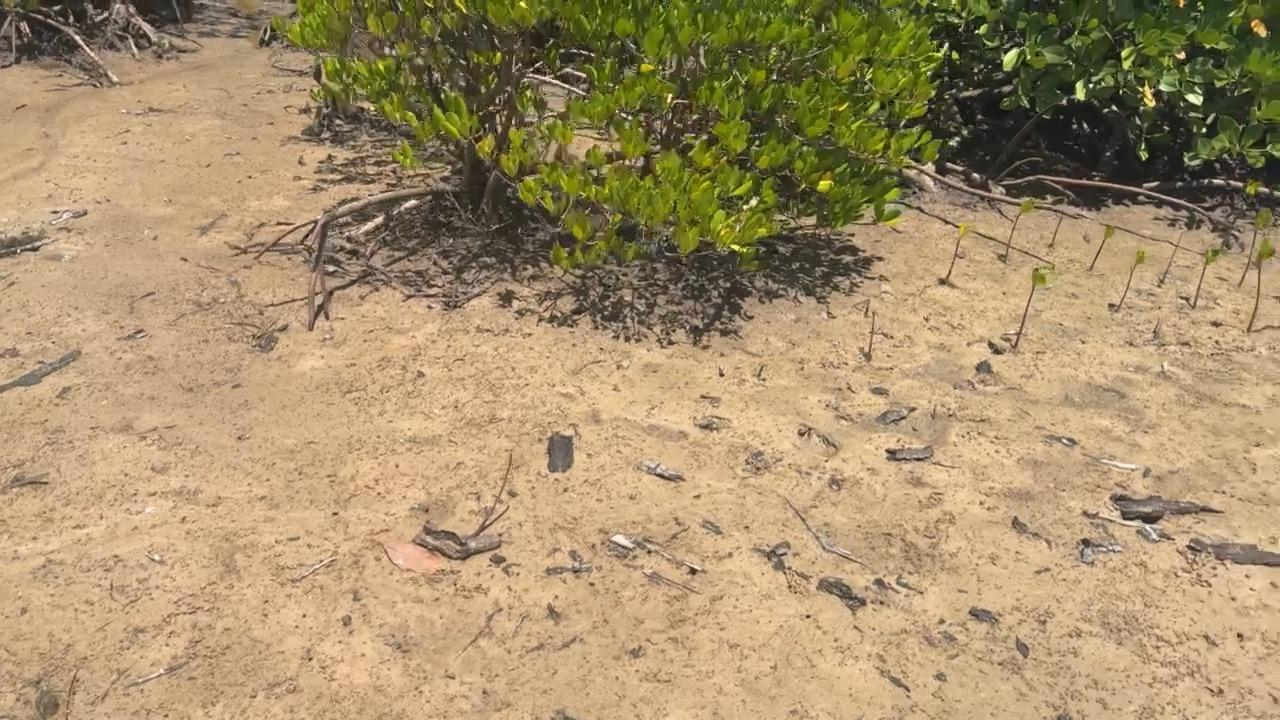Tree: (1013, 266, 1054, 348), (1247, 235, 1275, 331), (1240, 210, 1272, 287), (1005, 198, 1034, 264), (1115, 251, 1144, 312), (946, 221, 974, 280), (1193, 248, 1220, 308), (1162, 230, 1183, 283), (1090, 227, 1115, 269), (869, 310, 873, 354)
